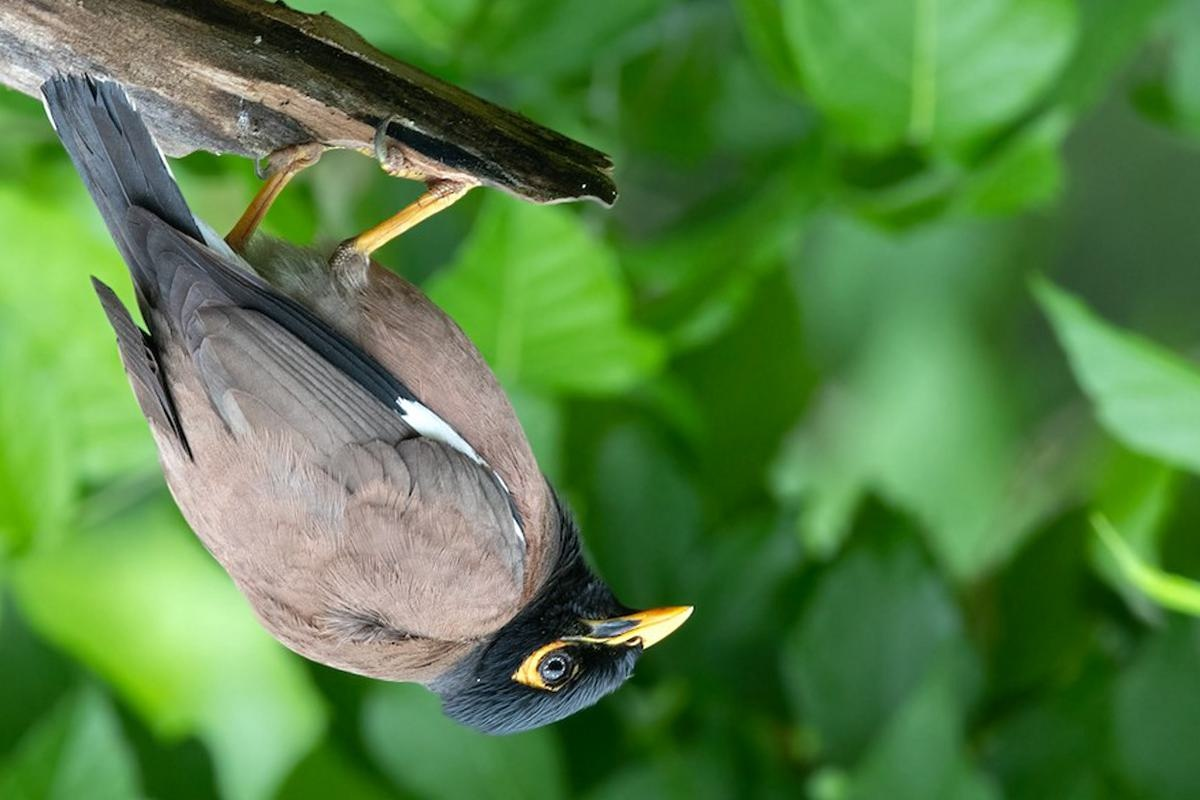myna: (7, 60, 703, 741)
